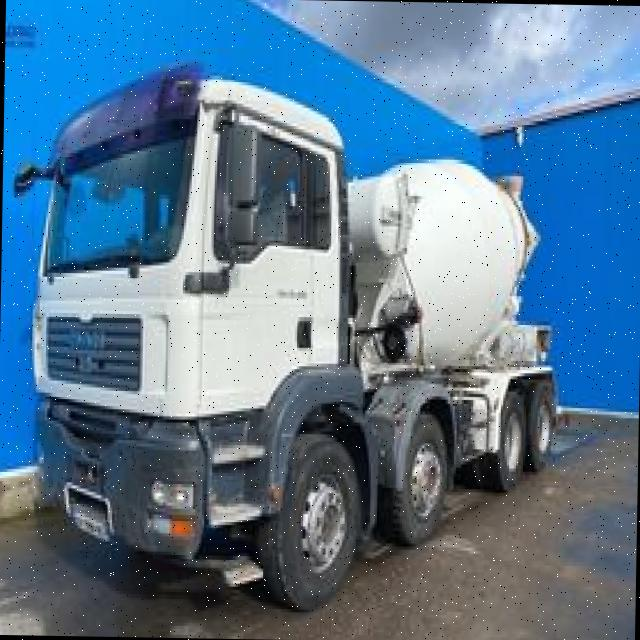Mixer Truck: (2, 55, 566, 623)
